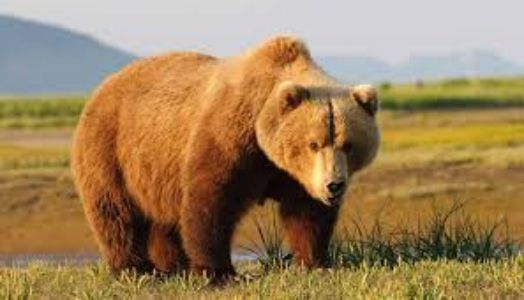bear: (62, 46, 428, 271)
